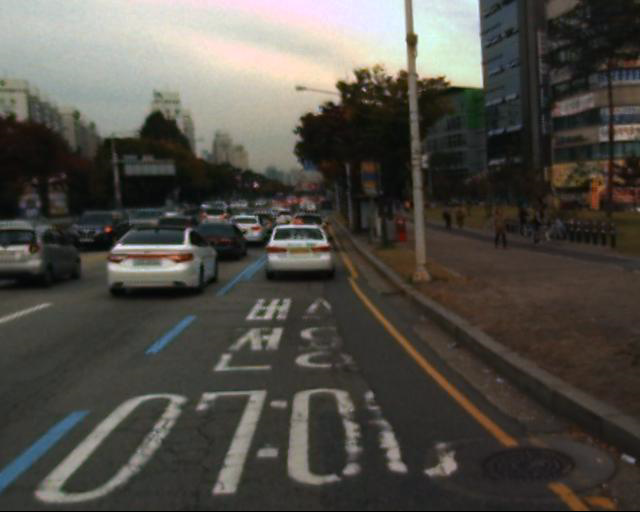person: (493, 208, 513, 253), (532, 206, 552, 249), (517, 207, 537, 250), (439, 202, 459, 240), (452, 203, 472, 240)
